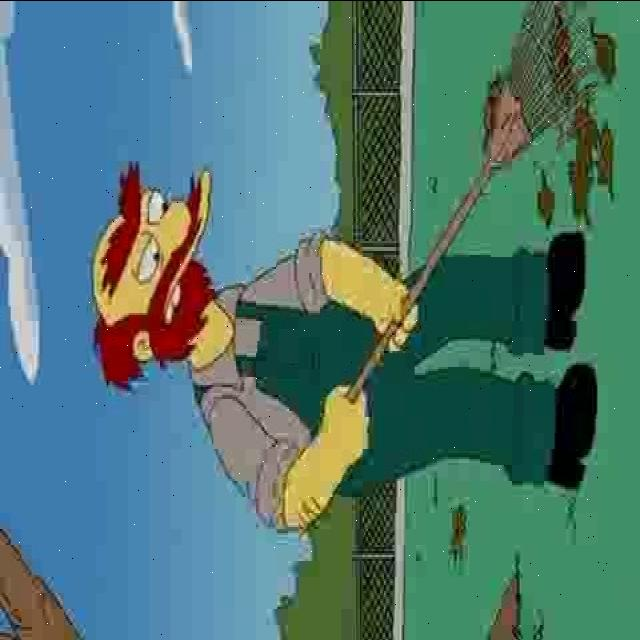Groundskeeper Willie: (88, 161, 230, 391)
